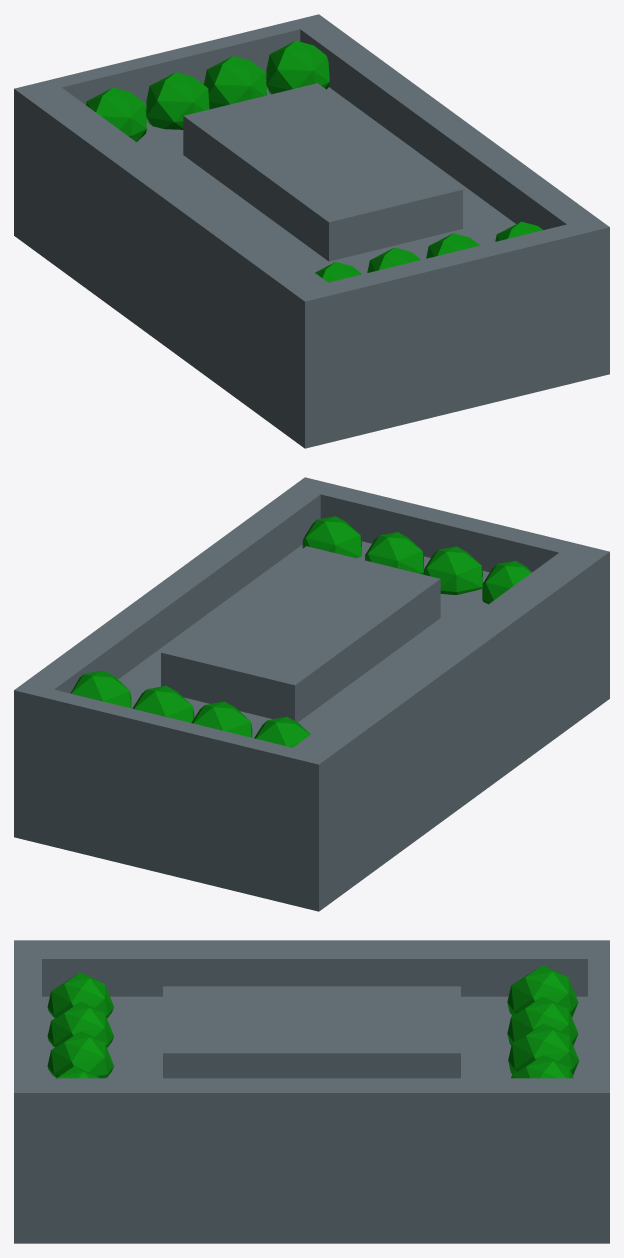
Rendered from fountainorsomething.fbx.
3 views of the same model, one above another, from view 1: azimuth 30°, elevation 25°; view 2: azimuth 150°, elevation 25°; view 3: azimuth 270°, elevation 25° (orthographic). The views are drawn at different scales.
Visible parts, largest first — view 1: Cube, Icosphere.003, Icosphere.004, Icosphere.001; view 2: Cube, Icosphere.001, Icosphere.003, Icosphere.004, Icosphere.002; view 3: Cube, Icosphere.001, Icosphere.004, Icosphere.003.
Boxes of the visible parts, box(x1,y1,x2,y2) form: Cube: box(14, 14, 609, 448); Icosphere.003: box(203, 40, 329, 109); Icosphere.004: box(86, 72, 209, 141); Icosphere.001: box(315, 233, 479, 282); Cube: box(14, 477, 609, 911); Icosphere.001: box(365, 532, 532, 604); Icosphere.003: box(70, 670, 194, 722); Icosphere.004: box(191, 701, 310, 747); Icosphere.002: box(302, 516, 361, 557); Cube: box(14, 940, 609, 1243); Icosphere.001: box(47, 972, 113, 1078); Icosphere.004: box(507, 965, 578, 1045); Icosphere.003: box(508, 1023, 578, 1078).
Size of the model in its own units: 602 by 289 by 995.
